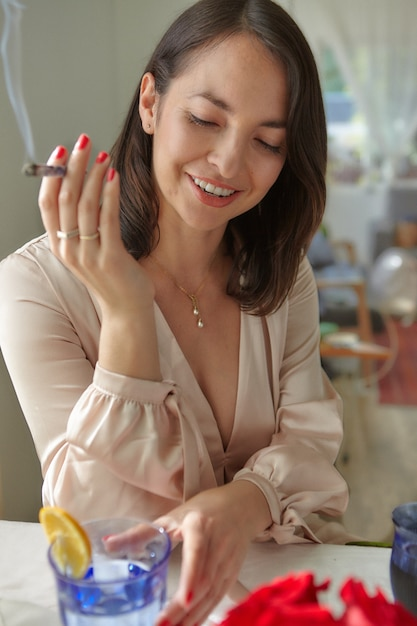cigarette: (22, 161, 91, 180)
